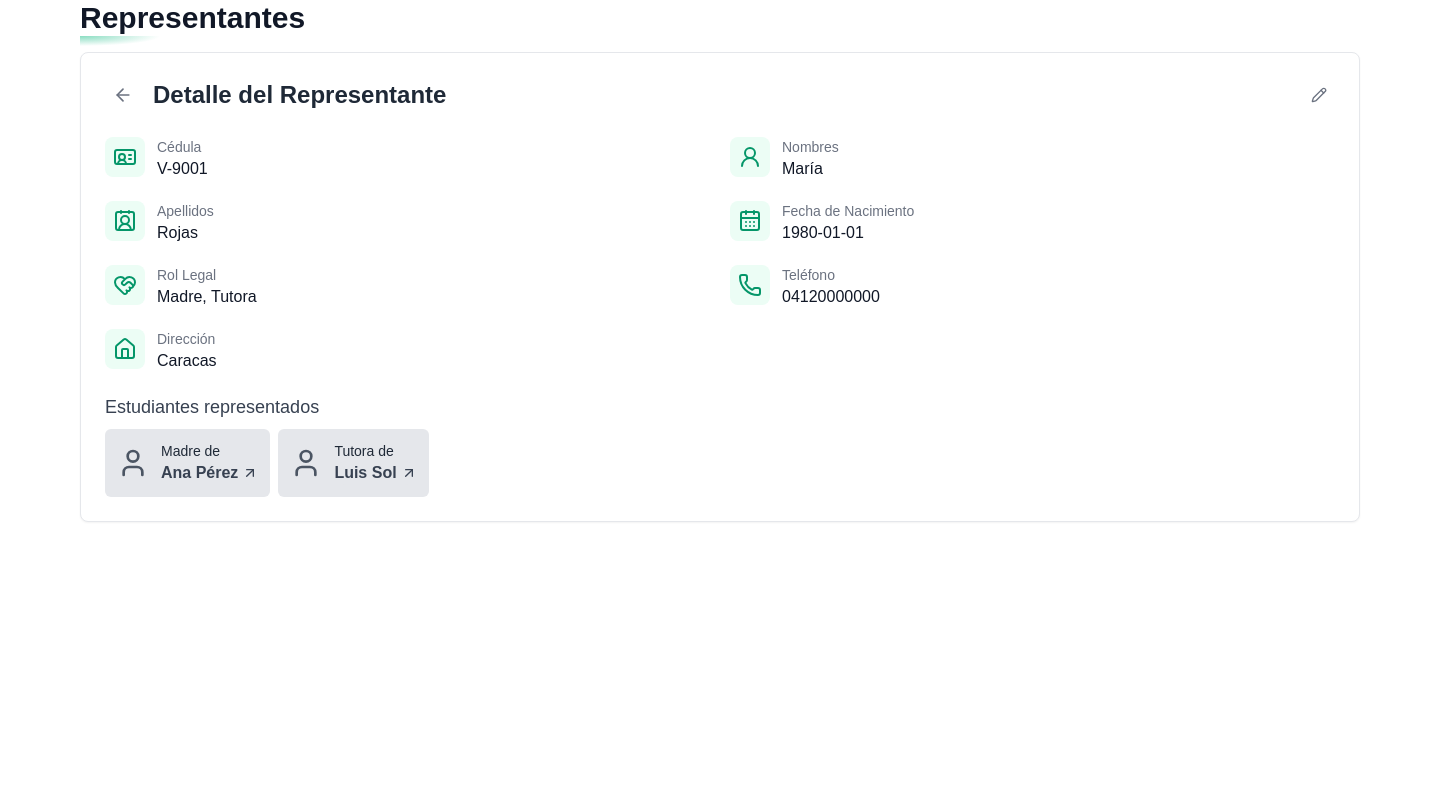
Scenario: Representantes page › preserves guardian changes on failure and cancels without updating the detail
Click the button named "Editar representante" at (1319, 95), box [1303,79,1335,111]
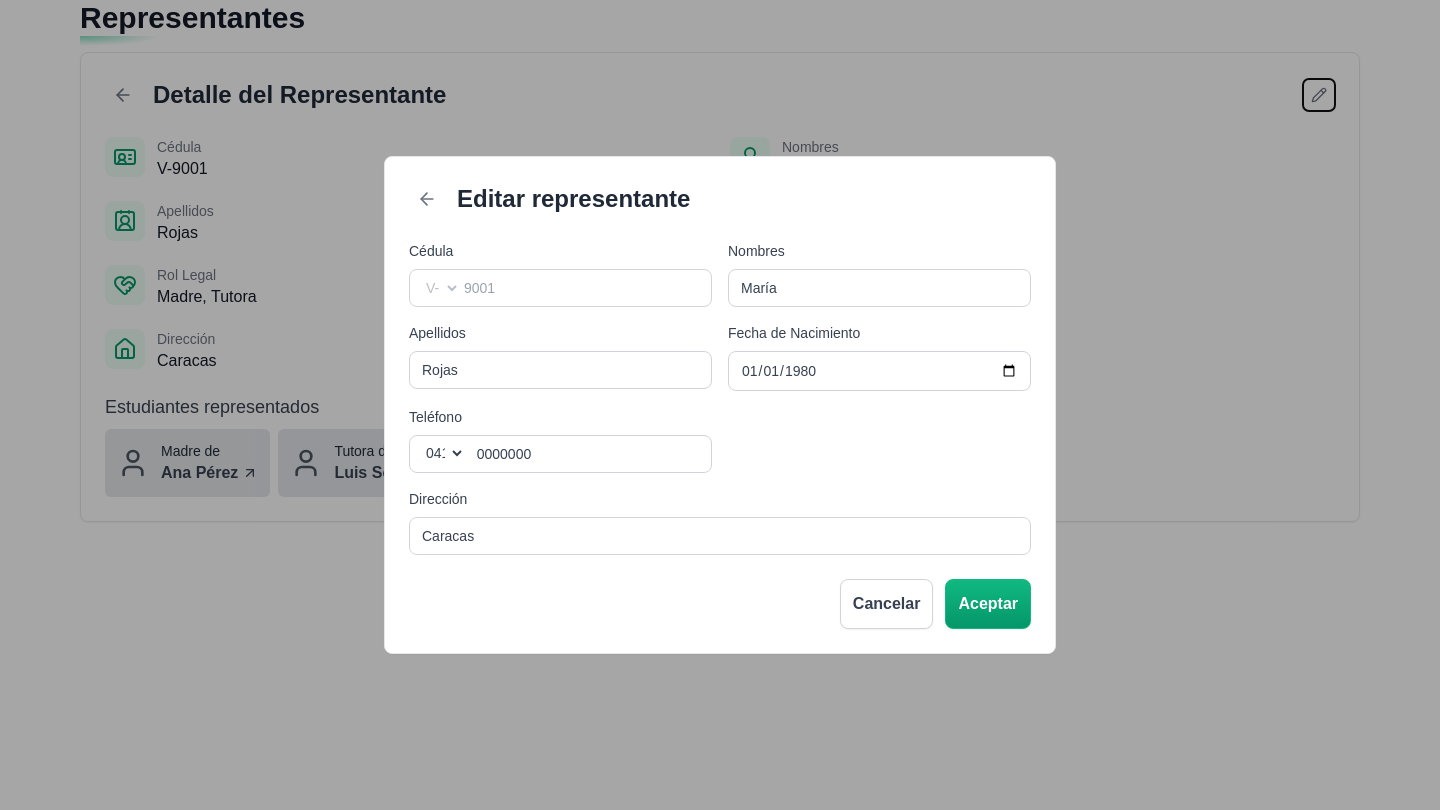
Replace the text in the field labelled "Dirección" with "Maracay" at (720, 536), box [409,517,1031,555]
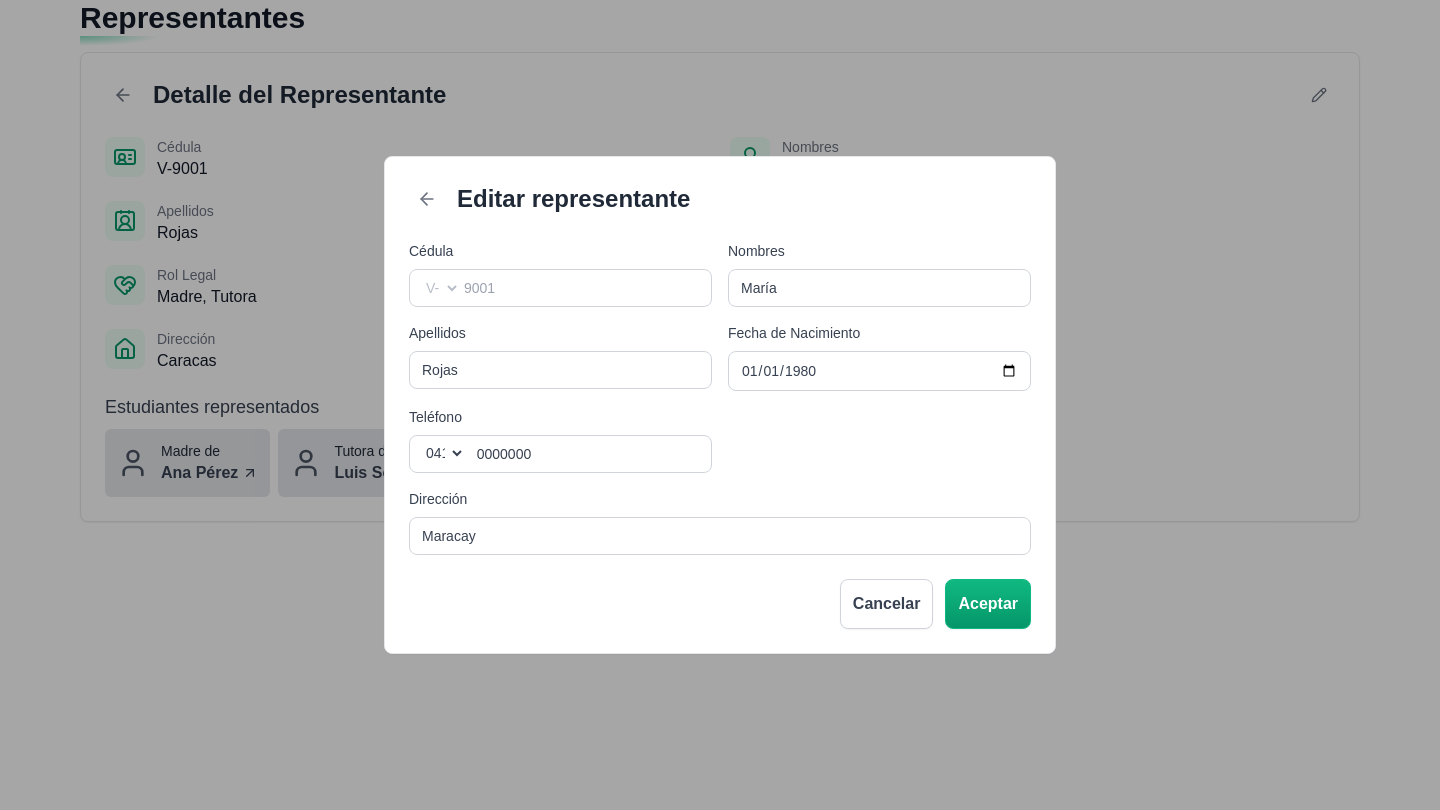
Click the button "Aceptar" at (988, 604), box [945,579,1031,629]
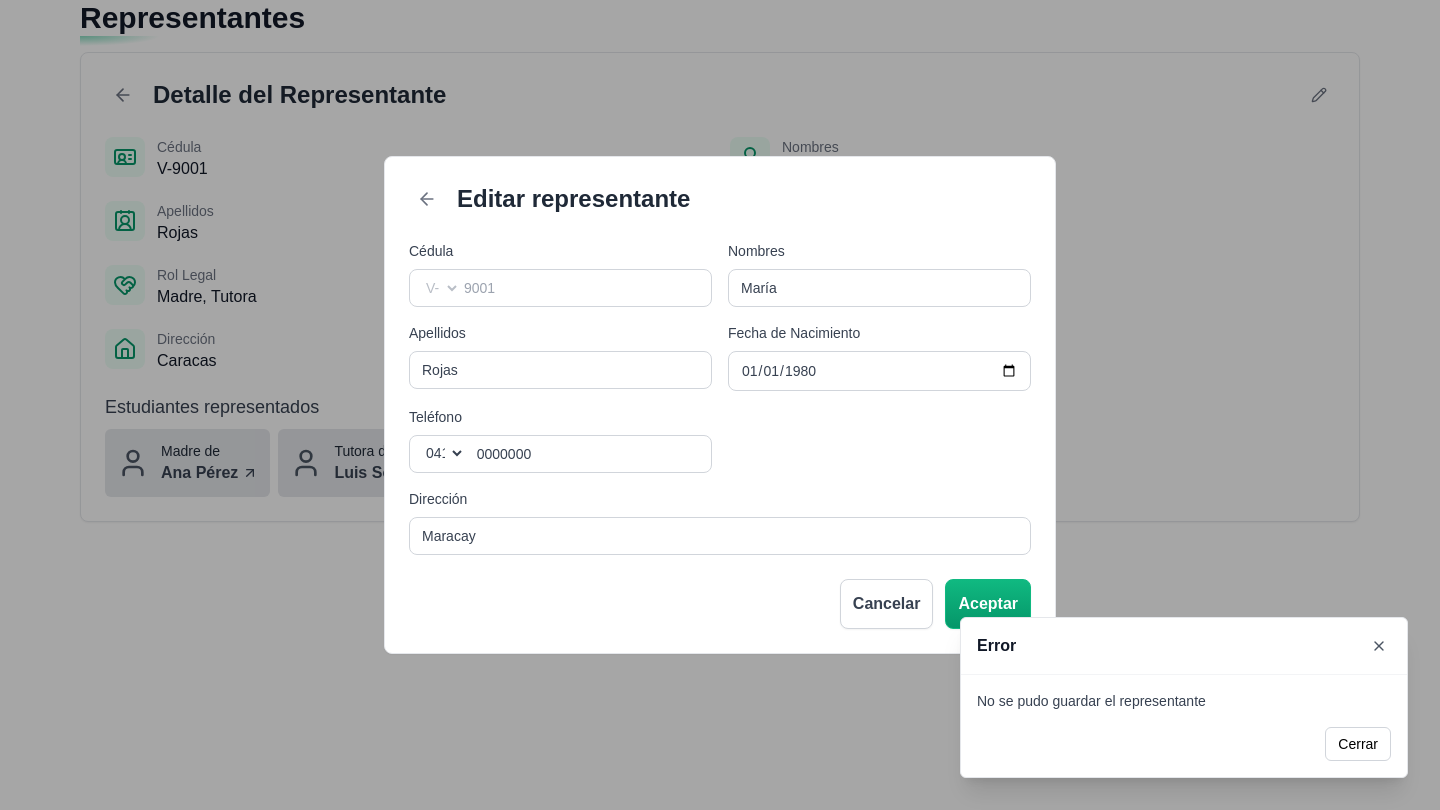
Check: the text "No se pudo guardar el representante" is shown, box [977,693,1206,709]
Click the button named "Cerrar error" at (1379, 646), box [1367,634,1391,658]
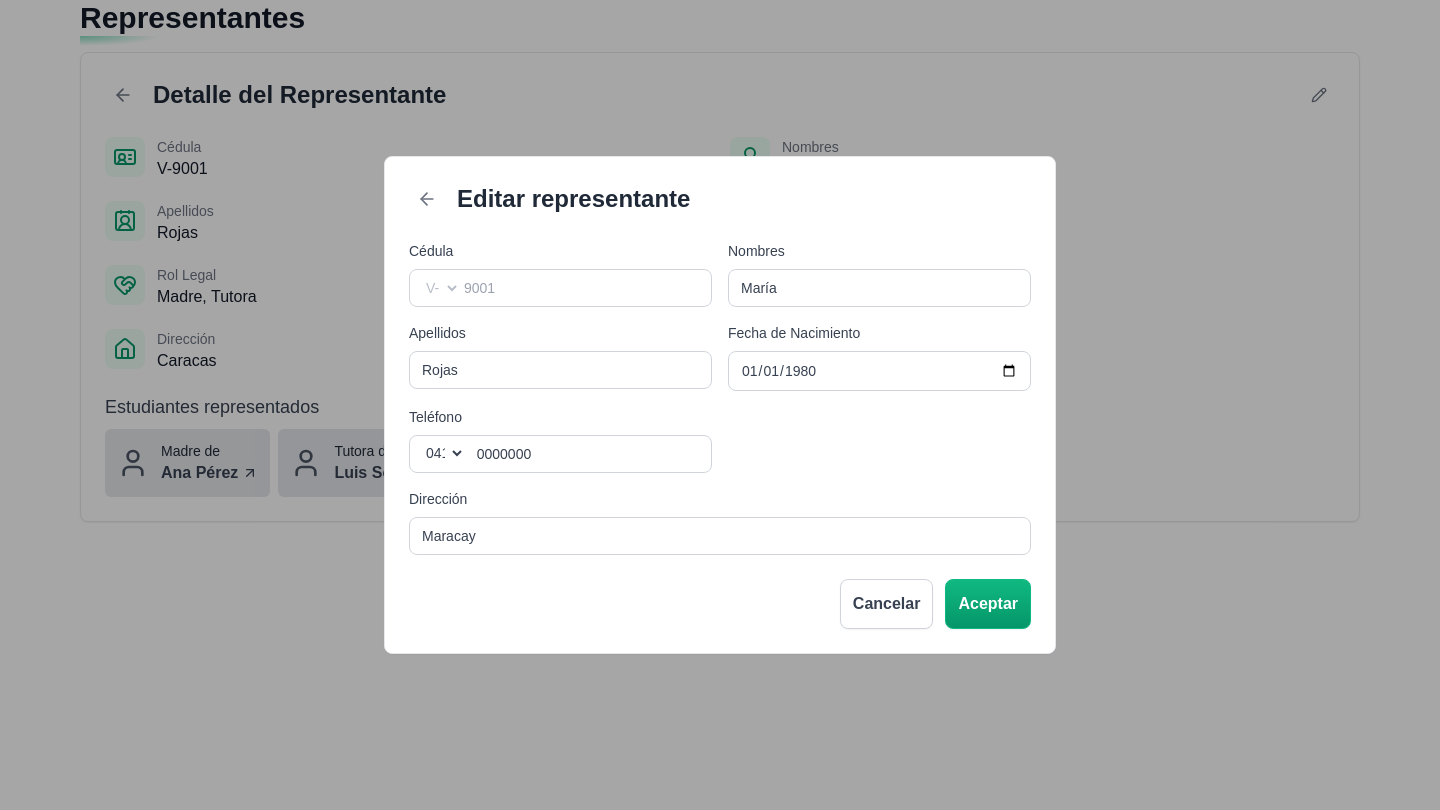
Click the button "Cancelar" at (887, 604), box [840,579,933,629]
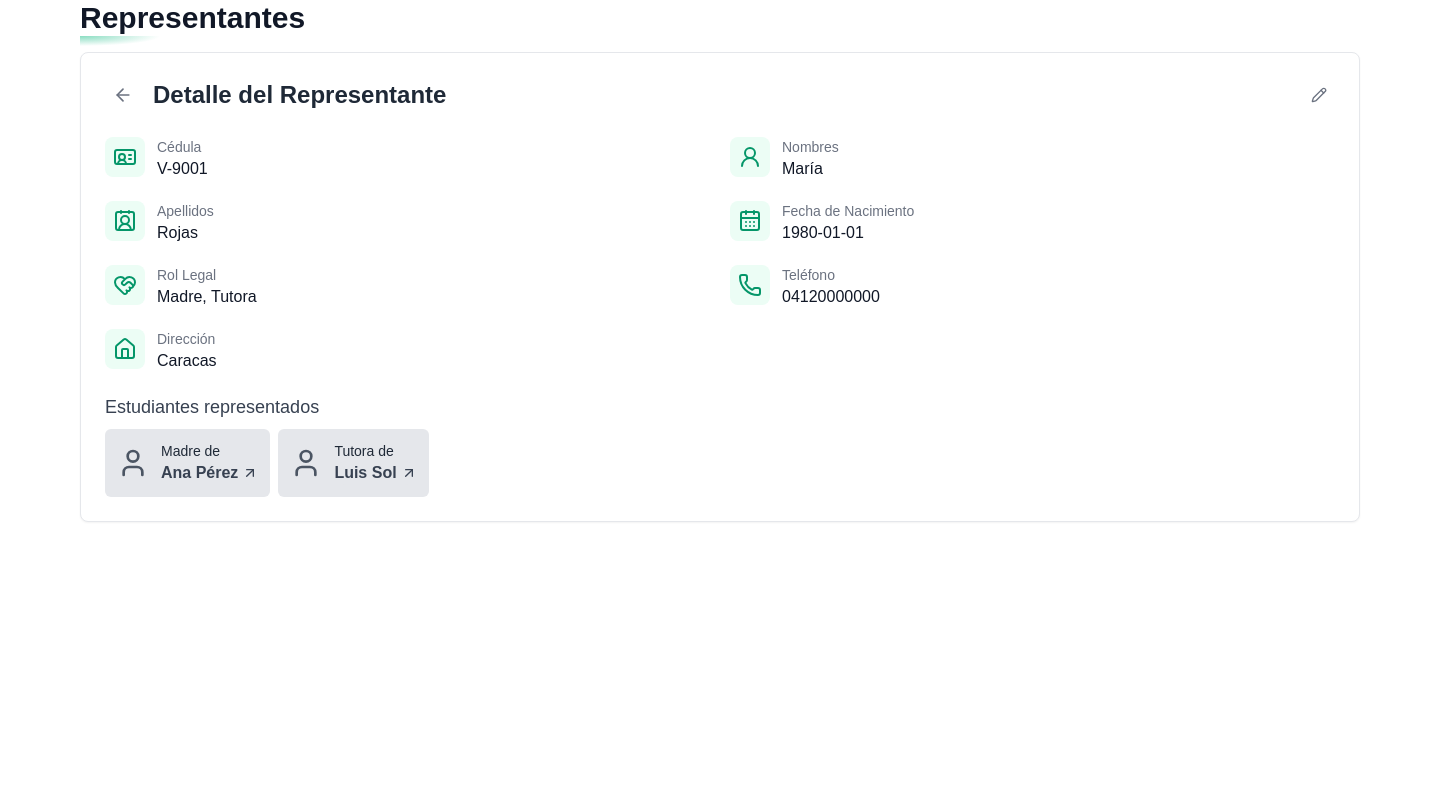
Check: the text "Caracas" is shown, box [157,349,217,373]
Check: the dialog is gone
